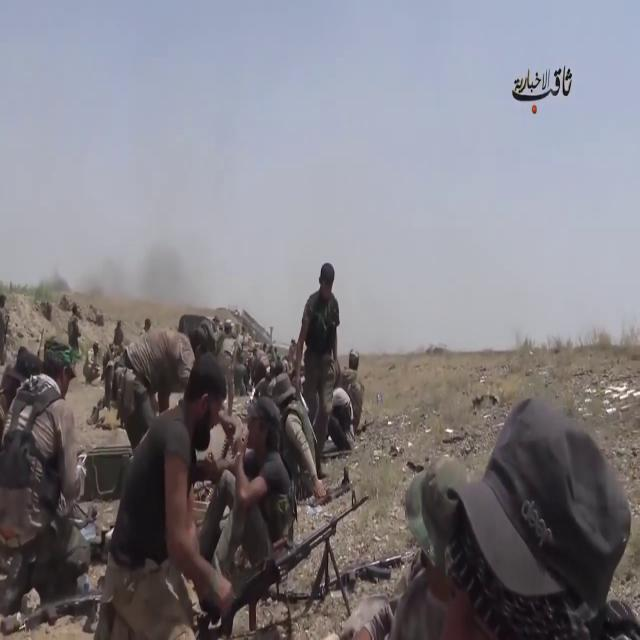long weapon: (196, 478, 378, 639), (312, 548, 413, 602)
